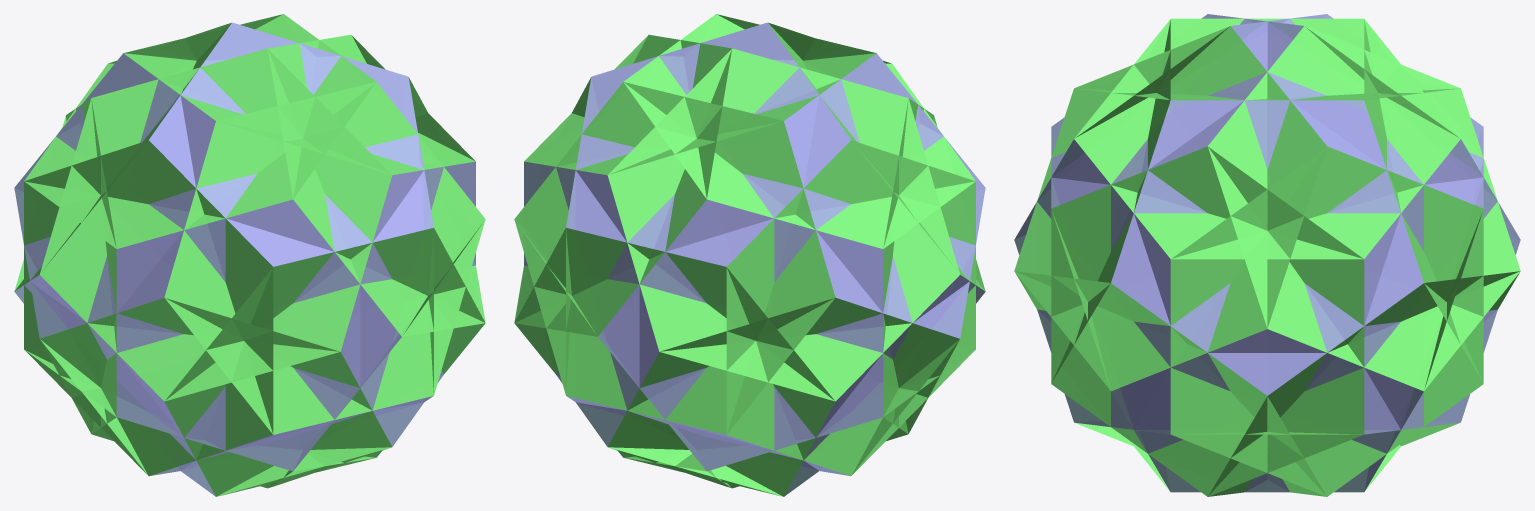
Rendered from IcosidodecadodecahedronA.obj.
3 views of the same model, side by side, from view 1: azimuth 30°, elevation 25°; view 2: azimuth 150°, elevation 25°; view 3: azimuth 270°, elevation 25° (orthographic). The views are drawn at different scales.
Size of the model in its own units: 2.62 by 2.62 by 2.62.
